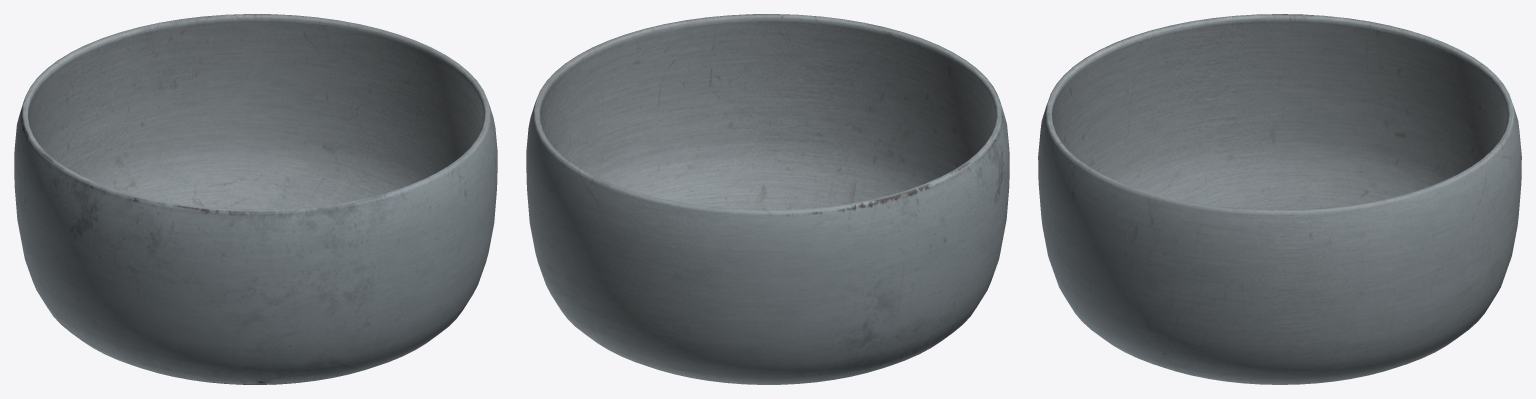
Rendered from SM_RiceBowls104.fbx.
3 renders of one model, left to right at view 1: azimuth 30°, elevation 25°; view 2: azimuth 150°, elevation 25°; view 3: azimuth 270°, elevation 25°, orthographic.
Parts seen in each view (by area): view 1: SM_RiceBowls104; view 2: SM_RiceBowls104; view 3: SM_RiceBowls104.
Boxes of the visible parts, x1,y1,x2,y2 form: SM_RiceBowls104: (14, 14, 497, 384); SM_RiceBowls104: (526, 14, 1009, 384); SM_RiceBowls104: (1038, 14, 1521, 384).
Size of the model in its own units: 11.4 by 5.03 by 11.4.
Materials: 1 (1 with a texture image).
